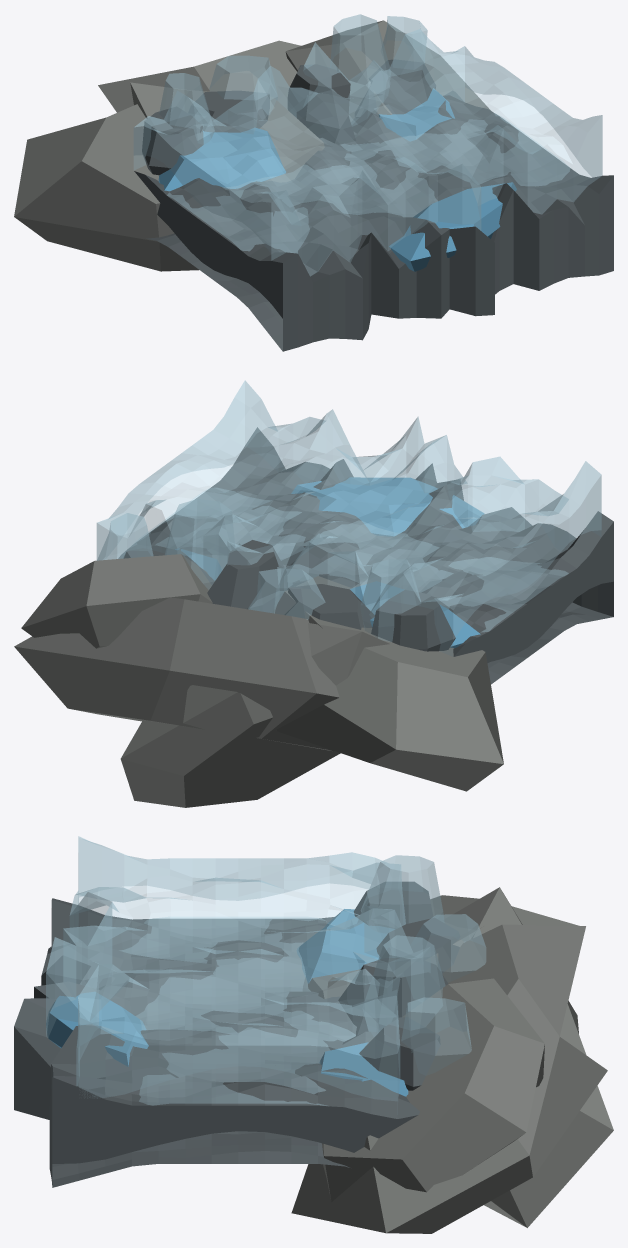
The model's file is ice_bridge_right_v11_smooth_depth.glb.
3 renders of one model, top to bottom at view 1: azimuth 30°, elevation 25°; view 2: azimuth 150°, elevation 25°; view 3: azimuth 270°, elevation 25°, orthographic. The views are drawn at different scales.
Parts seen in each view (by area): view 1: eroded_rock_bed, continuous_fractured_ice_shelf, large_eroded_bank_mass_00, large_eroded_bank_mass_02, large_eroded_bank_mass_01, compressed_ice_in_rock_00, fractured_ice_projection_02, compressed_ice_in_rock_01, irregular_rock_transition_02, irregular_rock_transition_00, irregular_rock_transition_03, irregular_rock_transition_01 (+5 smaller); view 2: continuous_fractured_ice_shelf, eroded_rock_bed, large_eroded_bank_mass_01, large_eroded_bank_mass_00, large_eroded_bank_mass_03, large_eroded_bank_mass_02, compressed_ice_in_rock_01, fractured_ice_projection_02, irregular_rock_transition_02, irregular_rock_transition_00, fractured_ice_projection_00, fractured_ice_projection_01 (+4 smaller); view 3: continuous_fractured_ice_shelf, eroded_rock_bed, large_eroded_bank_mass_01, large_eroded_bank_mass_02, large_eroded_bank_mass_03, irregular_rock_transition_02, fractured_ice_projection_02, fractured_ice_projection_03, fractured_ice_projection_00, compressed_ice_in_rock_00, compressed_ice_in_rock_01, irregular_rock_transition_03 (+5 smaller).
Boxes of the visible parts, left/top/right/bottom form: eroded_rock_bed: left=134, top=90, right=613, bottom=351; continuous_fractured_ice_shelf: left=133, top=29, right=602, bottom=276; large_eroded_bank_mass_00: left=14, top=90, right=324, bottom=271; large_eroded_bank_mass_02: left=285, top=20, right=490, bottom=121; large_eroded_bank_mass_01: left=98, top=40, right=301, bottom=112; compressed_ice_in_rock_00: left=158, top=127, right=285, bottom=191; fractured_ice_projection_02: left=330, top=14, right=390, bottom=126; compressed_ice_in_rock_01: left=389, top=182, right=516, bottom=271; irregular_rock_transition_02: left=288, top=64, right=355, bottom=144; irregular_rock_transition_00: left=142, top=106, right=203, bottom=175; irregular_rock_transition_03: left=355, top=59, right=435, bottom=118; irregular_rock_transition_01: left=189, top=90, right=269, bottom=132; continuous_fractured_ice_shelf: left=96, top=380, right=601, bottom=656; eroded_rock_bed: left=118, top=427, right=613, bottom=684; large_eroded_bank_mass_01: left=14, top=597, right=339, bottom=751; large_eroded_bank_mass_00: left=272, top=576, right=503, bottom=791; large_eroded_bank_mass_03: left=120, top=623, right=389, bottom=807; large_eroded_bank_mass_02: left=21, top=554, right=212, bottom=648; compressed_ice_in_rock_01: left=291, top=477, right=484, bottom=536; fractured_ice_projection_02: left=165, top=499, right=235, bottom=589; irregular_rock_transition_02: left=207, top=540, right=287, bottom=612; irregular_rock_transition_00: left=371, top=590, right=455, bottom=651; fractured_ice_projection_00: left=360, top=559, right=420, bottom=641; fractured_ice_projection_01: left=248, top=568, right=325, bottom=619; continuous_fractured_ice_shelf: left=46, top=836, right=430, bottom=1105; eroded_rock_bed: left=14, top=898, right=419, bottom=1187; large_eroded_bank_mass_01: left=291, top=924, right=607, bottom=1233; large_eroded_bank_mass_02: left=322, top=978, right=544, bottom=1201; large_eroded_bank_mass_03: left=443, top=887, right=613, bottom=1227; irregular_rock_transition_02: left=338, top=958, right=448, bottom=1035; fractured_ice_projection_02: left=365, top=935, right=445, bottom=1036; fractured_ice_projection_03: left=401, top=997, right=471, bottom=1075; fractured_ice_projection_00: left=361, top=855, right=444, bottom=925; compressed_ice_in_rock_00: left=297, top=909, right=394, bottom=983; compressed_ice_in_rock_01: left=46, top=992, right=148, bottom=1066; irregular_rock_transition_03: left=359, top=1017, right=440, bottom=1090.
Bounding box in the file's own units: 2.74 × 1.39 × 2.71.
